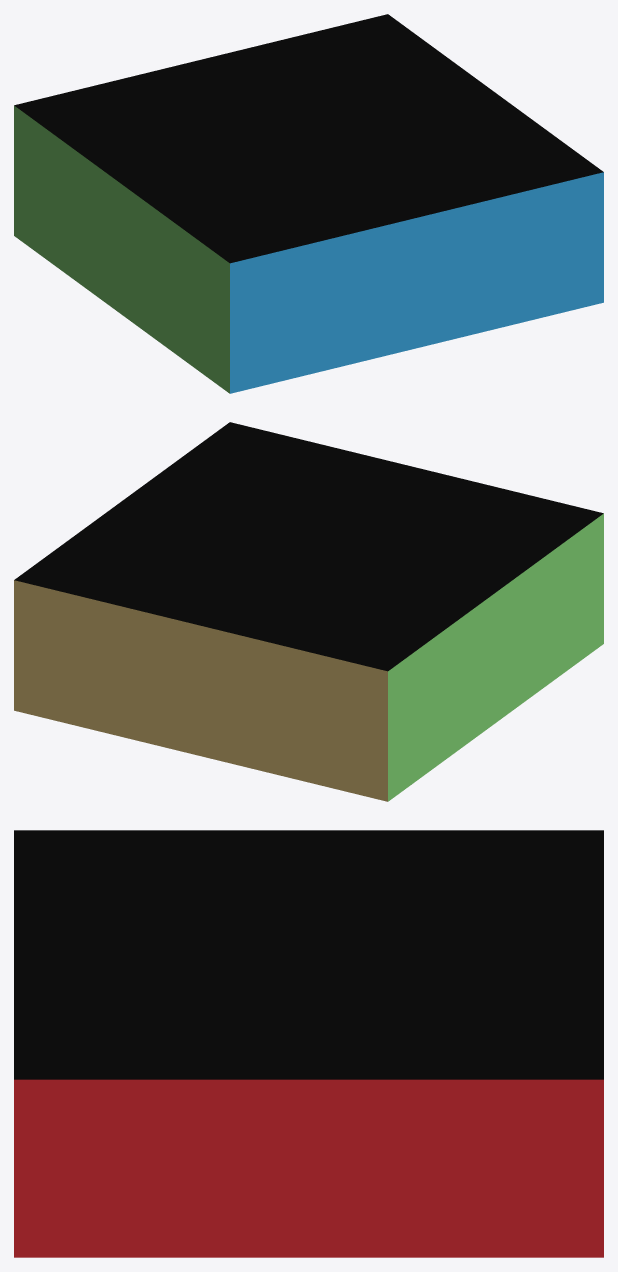
The model's file is sala.glb.
3 renders of one model, top to bottom at view 1: azimuth 30°, elevation 25°; view 2: azimuth 150°, elevation 25°; view 3: azimuth 270°, elevation 25°, orthographic. The views are drawn at different scales.
Visible parts, largest first — view 1: Cube; view 2: Cube; view 3: Cube.
Boxes of the visible parts, x1,y1,x2,y2 form: Cube: (14, 14, 603, 393); Cube: (14, 422, 603, 801); Cube: (14, 830, 603, 1257).
Bounding box in the file's own units: 12 × 4 × 12.
